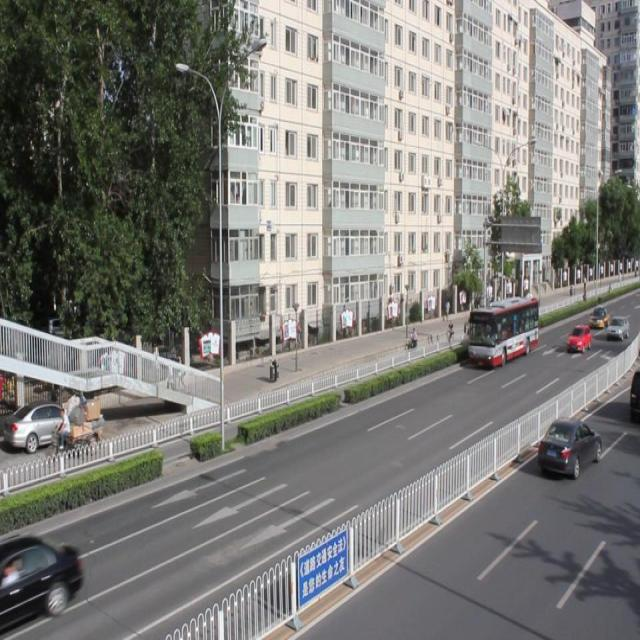car: (1, 534, 83, 622), (535, 412, 600, 478)
van: (468, 294, 538, 365)
